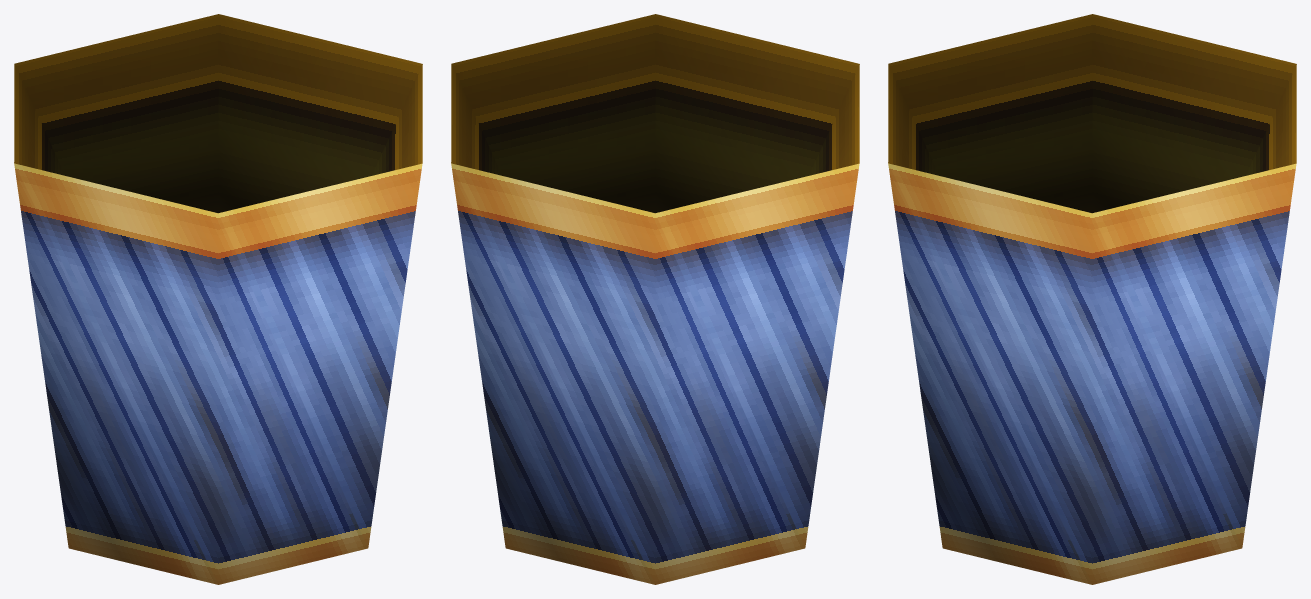
File: a_SCgen24.glb
3 renders of one model, left to right at view 1: azimuth 30°, elevation 25°; view 2: azimuth 150°, elevation 25°; view 3: azimuth 270°, elevation 25°, orthographic.
Parts seen in each view (by area): view 1: a_SCgen24; view 2: a_SCgen24; view 3: a_SCgen24.
Part boxes in pixels (x1,y1,x2,y2): a_SCgen24: [14, 14, 422, 584]; a_SCgen24: [451, 14, 859, 584]; a_SCgen24: [888, 14, 1296, 584].
Size of the model in its own units: 0.4921 by 0.4592 by 0.4265.
1 material, 1 textured.
